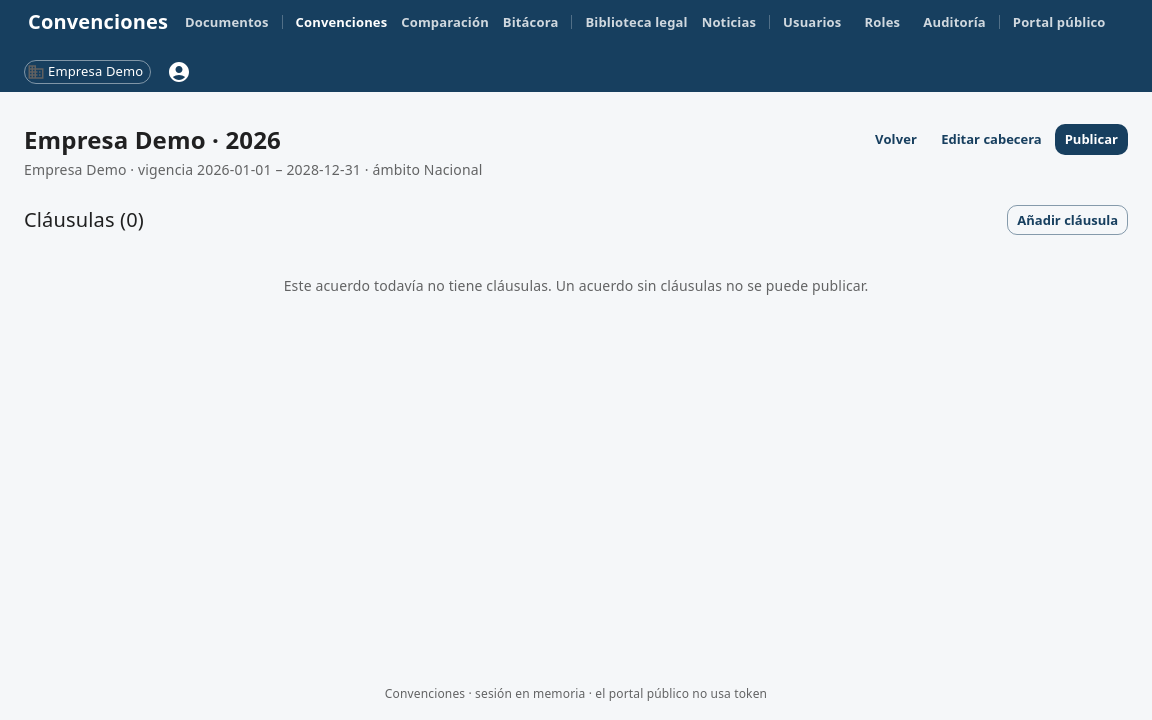
Test: AgreementEditorPage › offers real heading ids and labels the excluded heading
Click the button "Añadir cláusula".
click(1068, 220)  # box [1007,205,1128,236]
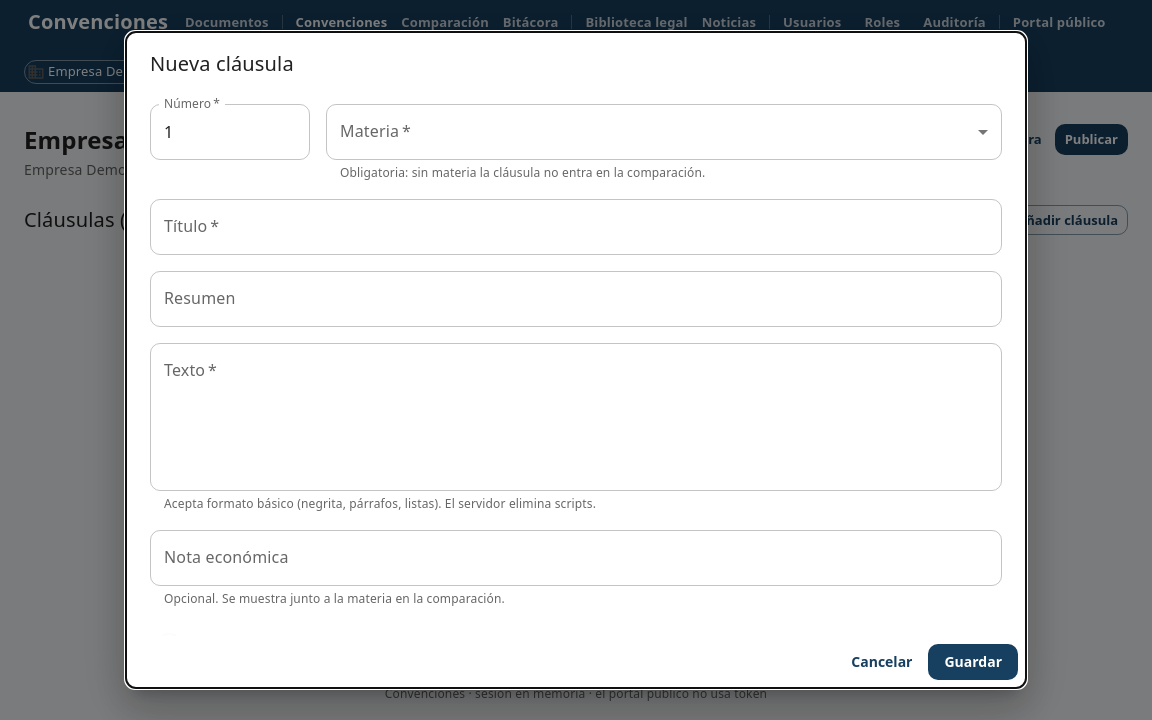
Click the dropdown named "materia".
click(664, 132)  # box [326,104,1002,160]
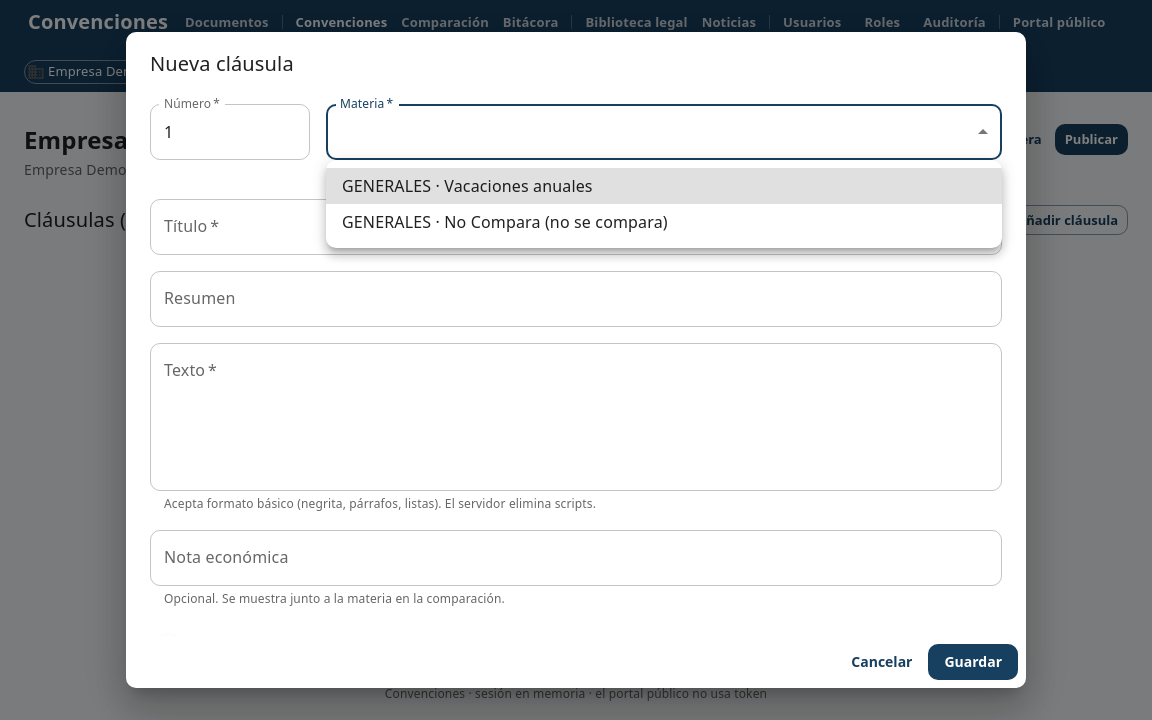
Check: the option "GENERALES · No Compara (no se compara)" is shown, box [342,211,668,233]
Check: the option "GENERALES · Vacaciones anuales" is shown, box [326,168,1002,204]
